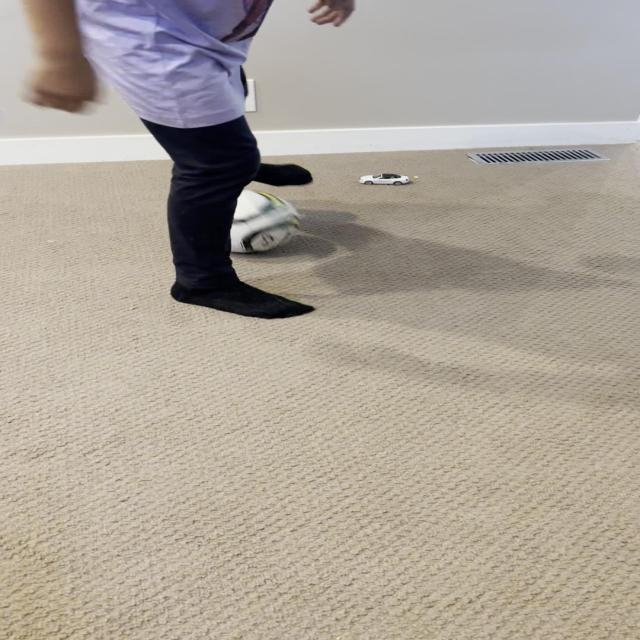Soccer Ball: (188, 189, 300, 252)
